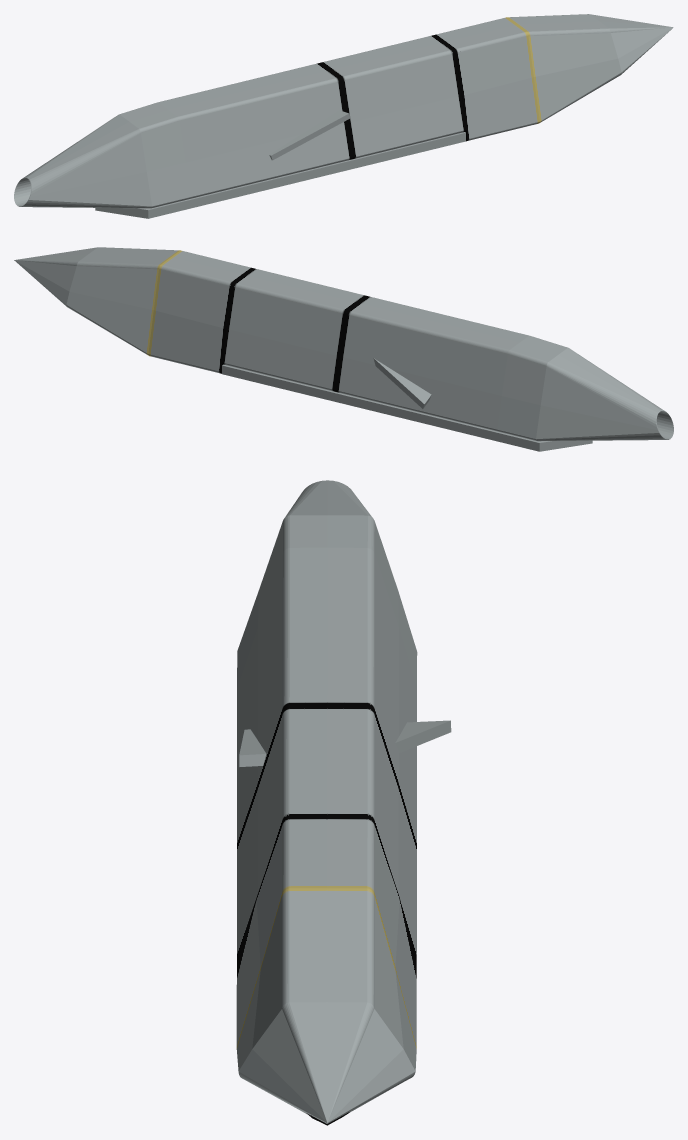
The model's file is f15eagm158anim1.glb.
The picture shows the model from 3 angles, top to bottom: view 1: azimuth 30°, elevation 25°; view 2: azimuth 150°, elevation 25°; view 3: azimuth 270°, elevation 25°; orthographic projection. The views are drawn at different scales.
Parts seen in each view (by area): view 1: 立方体.007, 立方体.002, 立方体.001; view 2: 立方体.007, 立方体.004, 立方体.001; view 3: 立方体.007, 立方体.001.
Part boxes in pixels (x1,y1,x2,y2): 立方体.007: (14, 14, 673, 208); 立方体.002: (95, 132, 465, 218); 立方体.001: (269, 110, 350, 160); 立方体.007: (14, 247, 673, 441); 立方体.004: (222, 364, 592, 451); 立方体.001: (373, 358, 431, 408); 立方体.007: (236, 480, 417, 1125); 立方体.001: (239, 720, 451, 766).
Bounding box in the file's own units: 5.31 × 0.647 × 0.7505.
5 materials, 2 textured.
